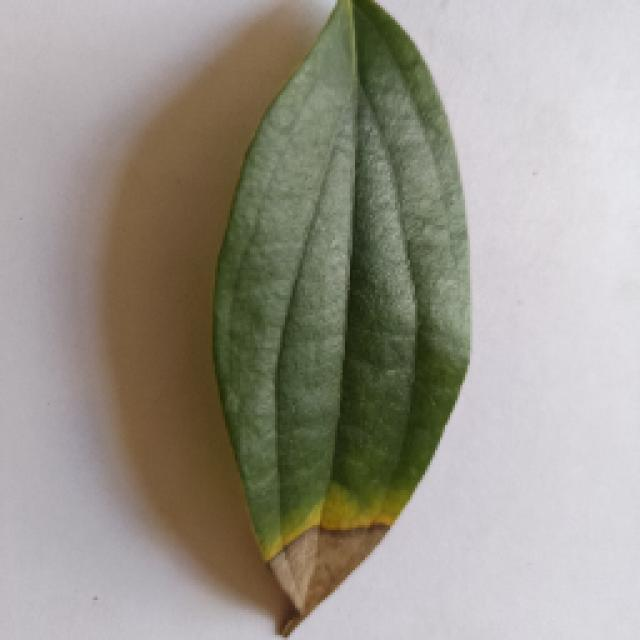footrot: (205, 10, 473, 630)
